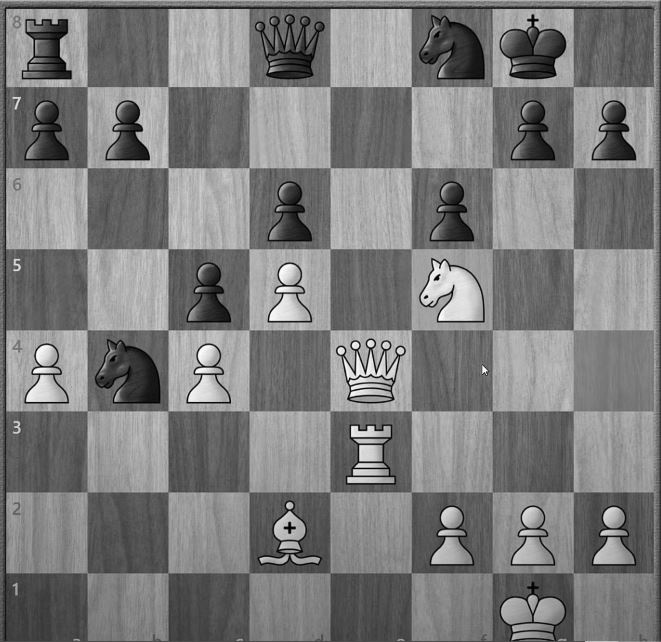bishop: (249, 493, 332, 571)
king: (495, 8, 574, 87), (491, 572, 578, 640)
knight: (413, 249, 494, 328), (91, 328, 167, 409), (414, 9, 492, 86)
pawn: (168, 248, 250, 329), (250, 168, 333, 248), (6, 88, 88, 168), (411, 493, 492, 573), (574, 85, 652, 167), (575, 492, 654, 572), (5, 330, 88, 406), (493, 491, 572, 570), (250, 248, 327, 329), (494, 89, 576, 164), (90, 88, 167, 166), (413, 169, 492, 245)
queen: (251, 7, 330, 87), (329, 330, 406, 409)
rook: (7, 7, 86, 85), (335, 414, 411, 489)
